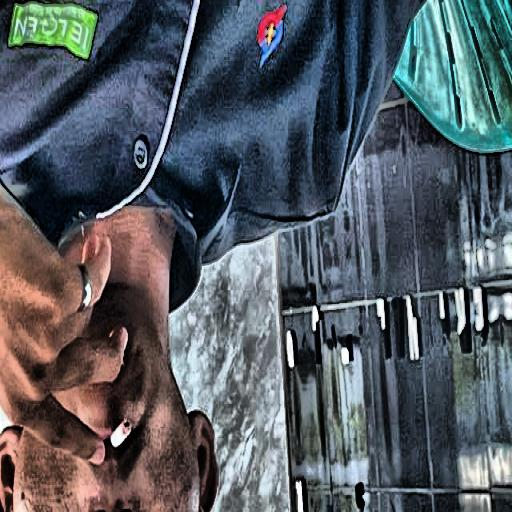Merokok: (110, 421, 131, 448)
Rokok: (0, 192, 218, 512)
